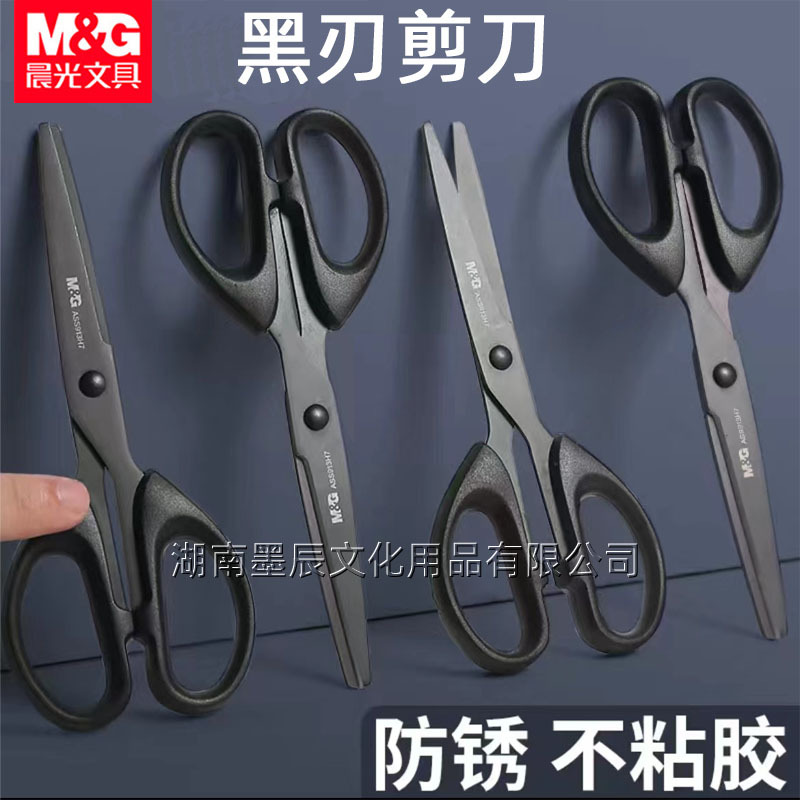scissors: (374, 115, 689, 682), (112, 105, 400, 699), (1, 119, 270, 741), (539, 70, 796, 658)
